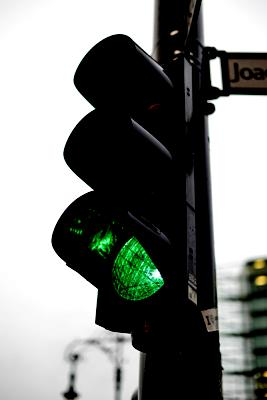International Road Signal Light: (55, 35, 195, 348)
